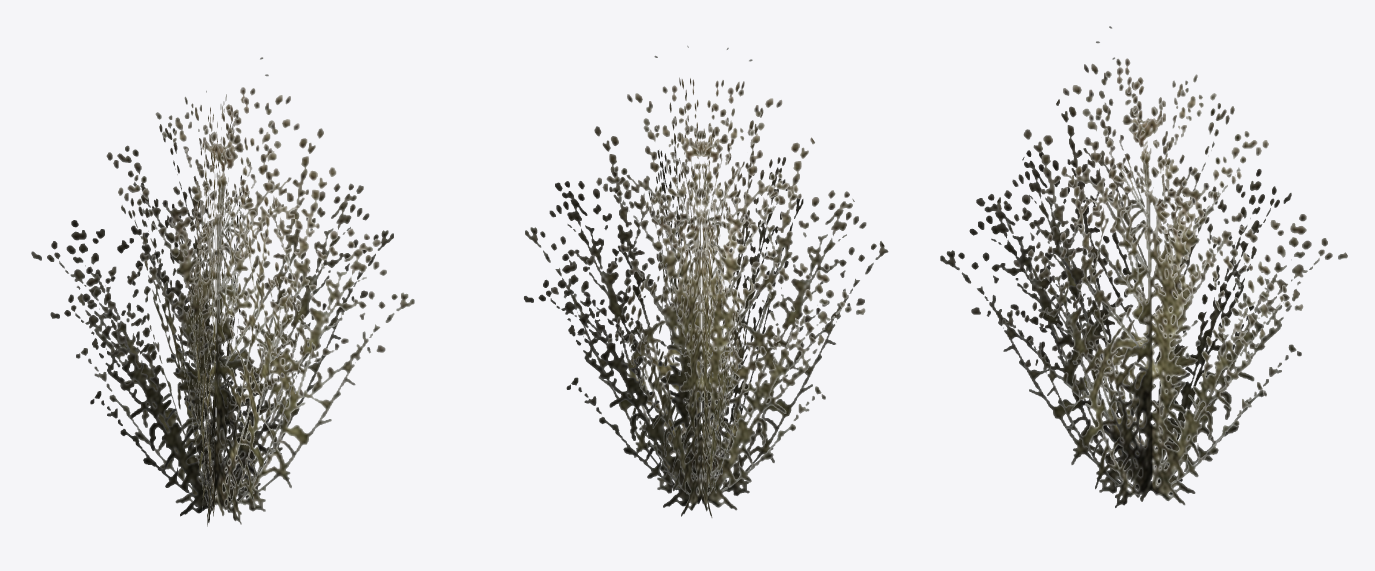
The model's file is SM_Generic_Plant_06.fbx.
The picture shows the model from 3 angles, left to right: view 1: azimuth 30°, elevation 25°; view 2: azimuth 150°, elevation 25°; view 3: azimuth 270°, elevation 25°; orthographic projection. The views are drawn at different scales.
Visible parts, largest first — view 1: SM_Generic_Plant_06_LOD0; view 2: SM_Generic_Plant_06_LOD0; view 3: SM_Generic_Plant_06_LOD0.
Boxes of the visible parts, x1=… form: SM_Generic_Plant_06_LOD0: x1=31, y1=57, x2=414, y2=526; SM_Generic_Plant_06_LOD0: x1=524, y1=45, x2=888, y2=517; SM_Generic_Plant_06_LOD0: x1=940, y1=26, x2=1347, y2=507.
Size of what is drawn, in the model's own units: 0.554 by 0.6165 by 0.5204.
